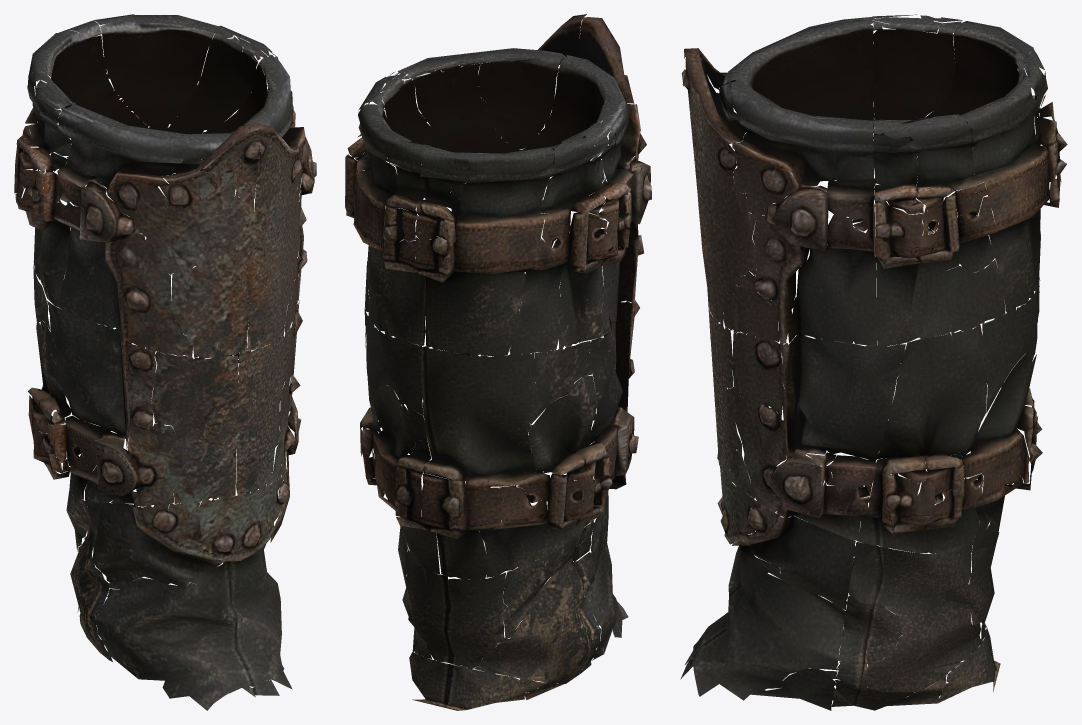
File: a_sluice_boots_shaft.glb
3 renders of one model, left to right at view 1: azimuth 30°, elevation 25°; view 2: azimuth 150°, elevation 25°; view 3: azimuth 270°, elevation 25°, orthographic. The views are drawn at different scales.
Visible parts, largest first — view 1: tripo_node_892a7d13-8db3-4021-8cfb-fa8c4bf19114; view 2: tripo_node_892a7d13-8db3-4021-8cfb-fa8c4bf19114; view 3: tripo_node_892a7d13-8db3-4021-8cfb-fa8c4bf19114.
Part boxes in pixels (x1,y1,x2,y2): tripo_node_892a7d13-8db3-4021-8cfb-fa8c4bf19114: (14, 14, 316, 710); tripo_node_892a7d13-8db3-4021-8cfb-fa8c4bf19114: (345, 14, 651, 710); tripo_node_892a7d13-8db3-4021-8cfb-fa8c4bf19114: (680, 14, 1067, 710).
Size of the model in its own units: 0.1778 by 0.3699 by 0.2081.
Materials: 1 (1 with a texture image).
